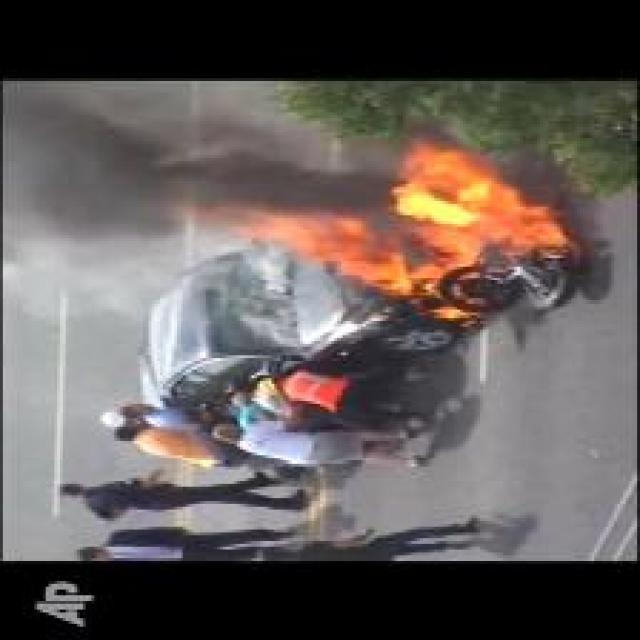Fire: (172, 138, 572, 292)
